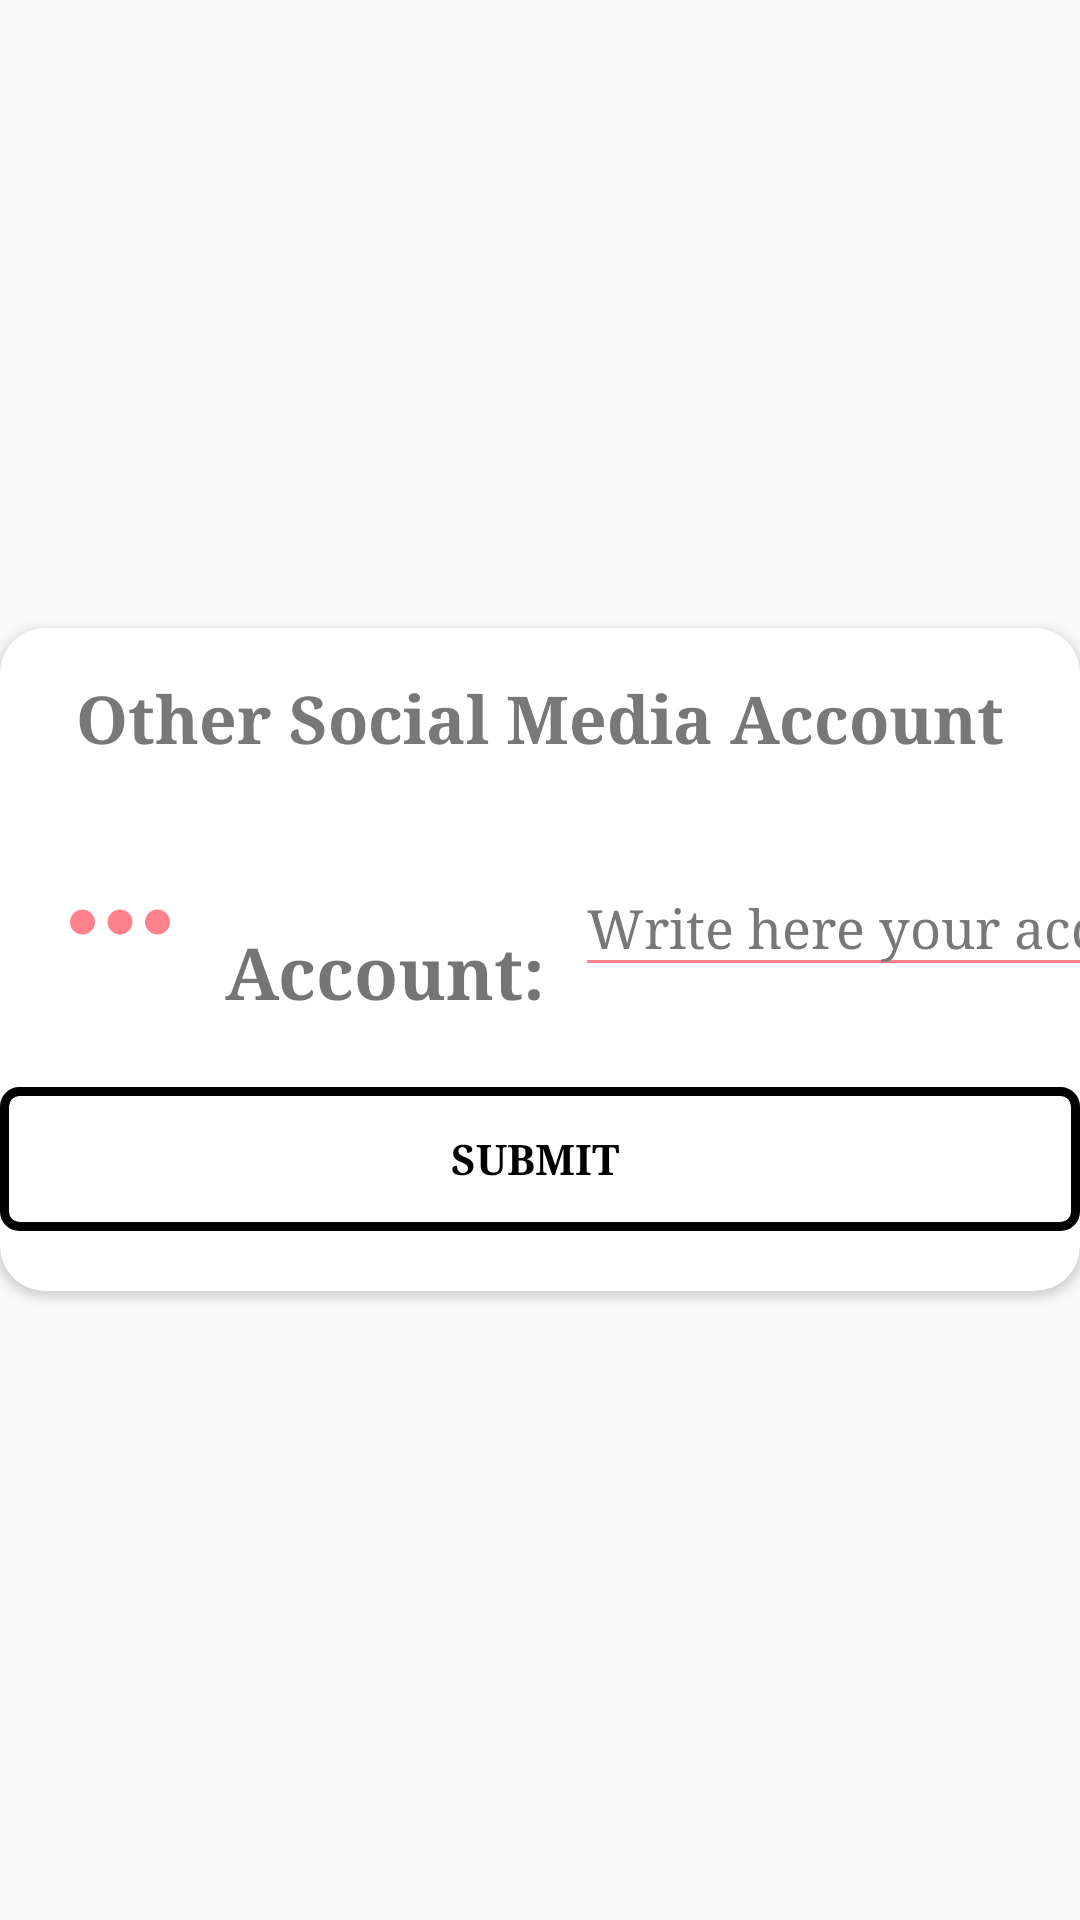

Icon click points for this 1080×1920 phone screenshot, format [x,y]:
more horiz: [120,922]
